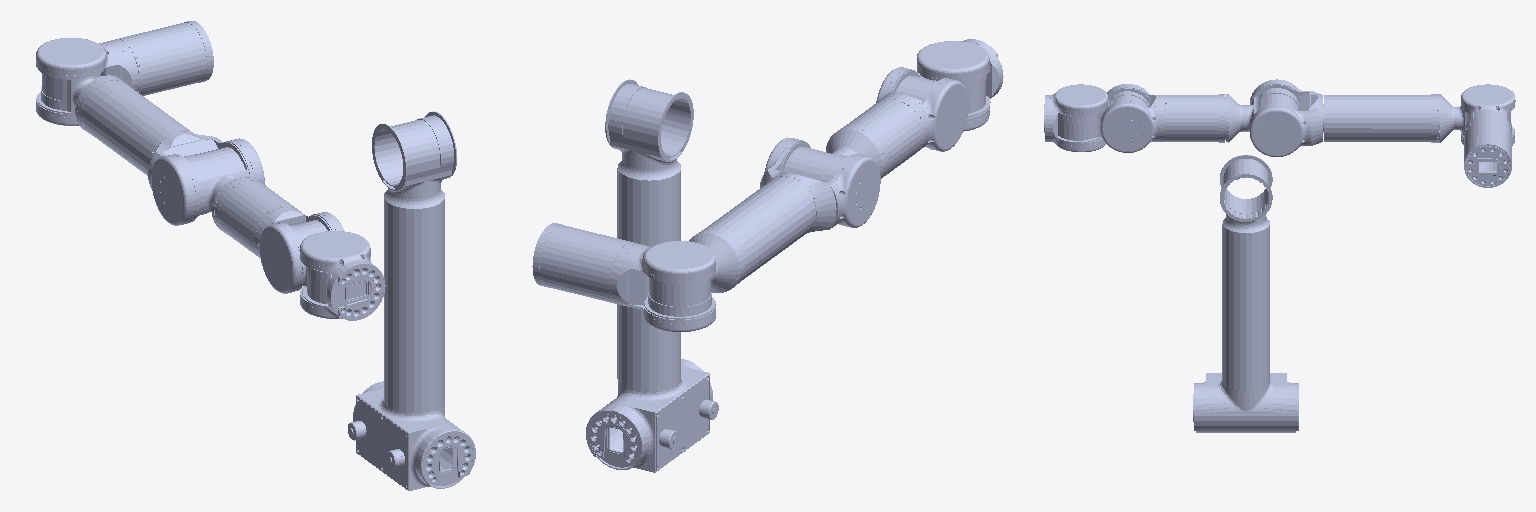
robot.urdf — mk2:
<robot
  name="mk2">
  <link
    name="torso_roll_link">
    <visual>
      <origin
        xyz="0 0 0"
        rpy="0 0 0" />
      <geometry>
        <mesh
          filename="package://mk2/meshes/torso_roll_link.STL" />
      </geometry>
      <material
        name="">
        <color
          rgba="0.792156862745098 0.819607843137255 0.933333333333333 1" />
      </material>
    </visual>
  </link>

  <link
    name="right_shoulder_pitch_link">
    <visual>
      <origin
        xyz="0 0 0"
        rpy="1.57 -1.57 1.57" />
      <geometry>
        <mesh
          filename="package://mk2/meshes/right_shoulder_pitch_link.STL" />
      </geometry>
      <material
        name="">
        <color
          rgba="0.792156862745098 0.819607843137255 0.933333333333333 1" />
      </material>
    </visual>
  </link>

  <joint
    name="right_shoulder_pitch_joint"
    type="revolute">
    <origin
      xyz="-0.0754 0.36378 0"
      rpy="0 0 0" />
    <parent
      link="torso_roll_link" />
    <child
      link="right_shoulder_pitch_link" />
    <axis
      xyz="1 0 0" />
    <limit 
      effort="30" velocity="1.0" lower="-1.57" upper="1.57" />
  </joint>

  <link
    name="right_shoulder_roll_link">
    <visual>
      <origin
        xyz="0 0 0"
        rpy="0 0 0" />
      <geometry>
        <mesh
          filename="package://mk2/meshes/right_shoulder_roll_link.STL" />
      </geometry>
      <material
        name="">
        <color
          rgba="0.792156862745098 0.819607843137255 0.933333333333333 1" />
      </material>
    </visual>
  </link>

  <joint
    name="right_shoulder_roll_joint"
    type="revolute">
    <origin
      xyz="-0.17412 0 0"
      rpy="0 0 0" />
    <parent
      link="right_shoulder_pitch_link" />
    <child
      link="right_shoulder_roll_link" />
    <axis
      xyz="0 0 -1" />
    <limit 
      effort="30" velocity="1.0" lower="-0.4" upper="3.14" />
  </joint>

  <link
    name="right_shoulder_yaw_link">
    <visual>
      <origin
        xyz="0 0 0"
        rpy="-1.57 1.57 0" />
      <geometry>
        <mesh
          filename="package://mk2/meshes/right_shoulder_yaw_link.STL" />
      </geometry>
      <material
        name="">
        <color
          rgba="0.792156862745098 0.819607843137255 0.933333333333333 1" />
      </material>
    </visual>
  </link>

  <joint
    name="right_shoulder_yaw_joint"
    type="revolute">
    <origin
      xyz="0 -0.073 0"
      rpy="0 0 0" />
    <parent
      link="right_shoulder_roll_link" />
    <child
      link="right_shoulder_yaw_link" />
    <axis
      xyz="0 1 0" />
    <limit 
      effort="30" velocity="1.0" lower="-1.57" upper="1.57" />
  </joint>

  <link
    name="right_elbow_pitch_link">
    <visual>
      <origin
        xyz="0 0 0"
        rpy="0 1.57 3.14" />
      <geometry>
        <mesh
          filename="package://mk2/meshes/right_elbow_pitch_link.STL" />
      </geometry>
      <material
        name="">
        <color
          rgba="0.792156862745098 0.819607843137255 0.933333333333333 1" />
      </material>
    </visual>
  </link>

  <joint
    name="right_elbow_pitch_joint"
    type="revolute">
    <origin
      xyz="0 -0.24462 0"
      rpy="0 0 0" />
    <parent
      link="right_shoulder_yaw_link" />
    <child
      link="right_elbow_pitch_link" />
    <axis
      xyz="1 0 0" />
    <limit 
      effort="30" velocity="1.0" lower="-1.57" upper="1.57" />
  </joint>

  <link
    name="right_wrist_yaw_link">
    <visual>
      <origin
        xyz="0 0 0"
        rpy="0 1.57 0" />
      <geometry>
        <mesh
          filename="package://mk2/meshes/right_wrist_yaw_link.STL" />
      </geometry>
      <material
        name="">
        <color
          rgba="0.792156862745098 0.819607843137255 0.933333333333333 1" />
      </material>
    </visual>
  </link>

  <joint
    name="right_wrist_yaw_joint"
    type="revolute">
    <origin
      xyz="0 -0.0732 0"
      rpy="0 0 0" />
    <parent
      link="right_elbow_pitch_link" />
    <child
      link="right_wrist_yaw_link" />
    <axis
      xyz="0 1 0" />
    <limit 
      effort="30" velocity="1.0" lower="-1.57" upper="1.57" />
  </joint>

  <link
    name="right_wrist_pitch_link">
    <visual>
      <origin
        xyz="0 0 0"
        rpy="0 1.57 0" />
      <geometry>
        <mesh
          filename="package://mk2/meshes/right_wrist_pitch_link.STL" />
      </geometry>
      <material
        name="">
        <color
          rgba="0.792156862745098 0.819607843137255 0.933333333333333 1" />
      </material>
    </visual>
  </link>

  <joint
    name="right_wrist_pitch_joint"
    type="revolute">
    <origin
      xyz="0 -0.15124 0"
      rpy="0 0 0" />
    <parent
      link="right_wrist_yaw_link" />
    <child
      link="right_wrist_pitch_link" />
    <axis
      xyz="1 0 0" />
    <limit 
      effort="30" velocity="1.0" lower="-1.57" upper="1.57" />
  </joint>

  <link
    name="right_wrist_roll_link">
    <visual>
      <origin
        xyz="0 0 0"
        rpy="0 1.57 0" />
      <geometry>
        <mesh
          filename="package://mk2/meshes/right_wrist_roll_link.STL" />
      </geometry>
      <material
        name="">
        <color
          rgba="0.792156862745098 0.819607843137255 0.933333333333333 1" />
      </material>
    </visual>
  </link>

  <joint
    name="right_wrist_roll_joint"
    type="revolute">
    <origin
      xyz="0 -0.07 0"
      rpy="0 0 0" />
    <parent
      link="right_wrist_pitch_link" />
    <child
      link="right_wrist_roll_link" />
    <axis
      xyz="0 0 1" />
    <limit 
      effort="30" velocity="1.0" lower="-1.57" upper="1.57" />
  </joint>
</robot>

--- Facts derived from the render (not from the file) ---
The picture shows the robot from 3 angles, left to right: view 1: azimuth 30°, elevation 25°; view 2: azimuth 150°, elevation 25°; view 3: azimuth 270°, elevation 25°; orthographic projection.
Robot: mk2 — 8 links, 7 joints (7 revolute); root link torso_roll_link; default pose: every joint at zero.
Visible links, largest first — view 1: torso_roll_link, right_shoulder_yaw_link, right_shoulder_pitch_link, right_wrist_yaw_link, right_wrist_roll_link, right_elbow_pitch_link, right_shoulder_roll_link, right_wrist_pitch_link; view 2: torso_roll_link, right_shoulder_pitch_link, right_shoulder_yaw_link, right_wrist_yaw_link, right_shoulder_roll_link, right_wrist_roll_link, right_elbow_pitch_link, right_wrist_pitch_link; view 3: torso_roll_link, right_shoulder_yaw_link, right_wrist_yaw_link, right_shoulder_pitch_link, right_wrist_roll_link, right_elbow_pitch_link, right_wrist_pitch_link, right_shoulder_roll_link.
Link boxes in pixels (x1=…): torso_roll_link: x1=348, y1=111, x2=475, y2=490; right_shoulder_yaw_link: x1=78, y1=77, x2=264, y2=225; right_shoulder_pitch_link: x1=36, y1=21, x2=213, y2=125; right_wrist_yaw_link: x1=215, y1=178, x2=343, y2=293; right_wrist_roll_link: x1=300, y1=231, x2=385, y2=320; right_elbow_pitch_link: x1=182, y1=142, x2=257, y2=230; right_shoulder_roll_link: x1=37, y1=70, x2=122, y2=129; right_wrist_pitch_link: x1=287, y1=215, x2=370, y2=307; torso_roll_link: x1=586, y1=79, x2=718, y2=472; right_shoulder_pitch_link: x1=532, y1=223, x2=715, y2=331; right_shoulder_yaw_link: x1=699, y1=138, x2=880, y2=283; right_wrist_yaw_link: x1=841, y1=67, x2=968, y2=178; right_shoulder_roll_link: x1=644, y1=231, x2=742, y2=319; right_wrist_roll_link: x1=917, y1=39, x2=1003, y2=131; right_elbow_pitch_link: x1=780, y1=127, x2=883, y2=181; right_wrist_pitch_link: x1=892, y1=67, x2=990, y2=116; torso_roll_link: x1=1193, y1=155, x2=1298, y2=432; right_shoulder_yaw_link: x1=1250, y1=79, x2=1439, y2=156; right_wrist_yaw_link: x1=1100, y1=84, x2=1225, y2=152; right_shoulder_pitch_link: x1=1461, y1=84, x2=1515, y2=187; right_wrist_roll_link: x1=1044, y1=84, x2=1107, y2=151; right_elbow_pitch_link: x1=1226, y1=85, x2=1299, y2=142; right_wrist_pitch_link: x1=1058, y1=88, x2=1150, y2=142; right_shoulder_roll_link: x1=1437, y1=94, x2=1514, y2=142.
Bounding box of the posed robot: 0.3412 × 0.7085 × 0.4421 m (x, y, z).
Meshes: 8 distinct files referenced, 8 mesh visuals loaded (8 binary STL).